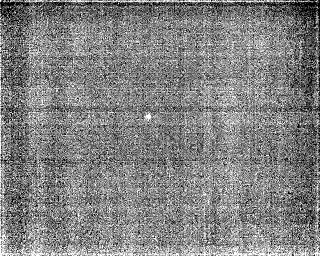BIRD: (143, 111, 154, 122)
